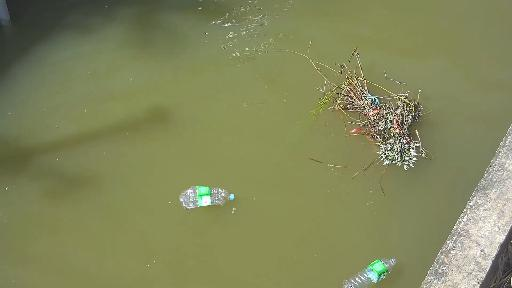plastic: (339, 257, 402, 282), (169, 184, 232, 209)
twig: (280, 26, 455, 209)
